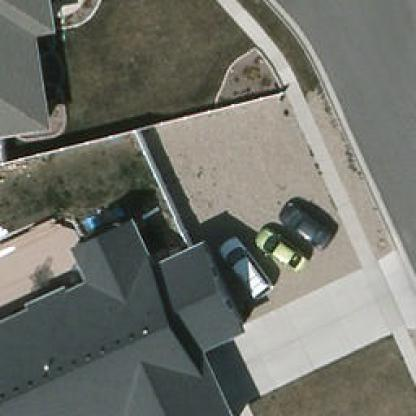car: (216, 234, 273, 302), (280, 203, 332, 254), (253, 226, 304, 270)
